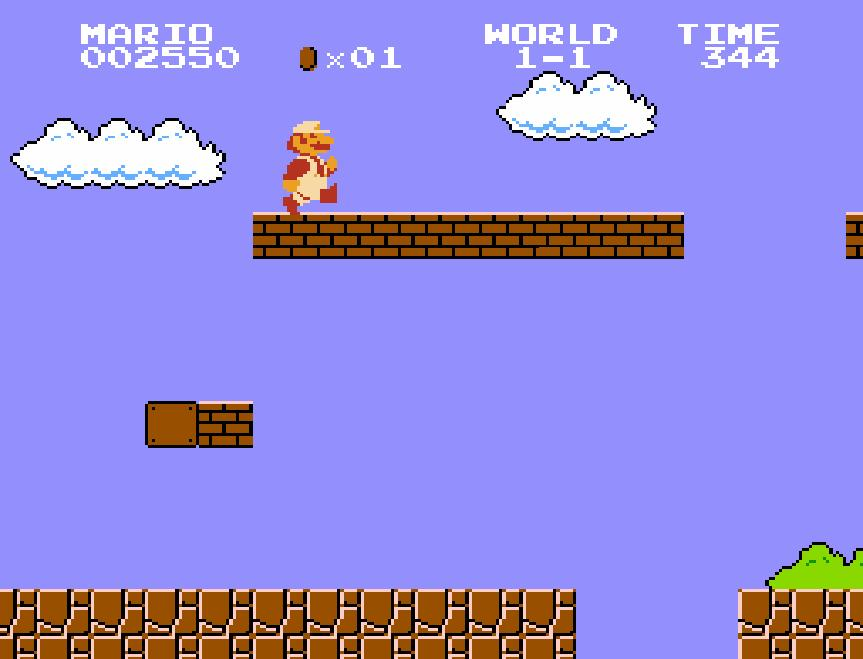fire_mario: (280, 118, 338, 216)
